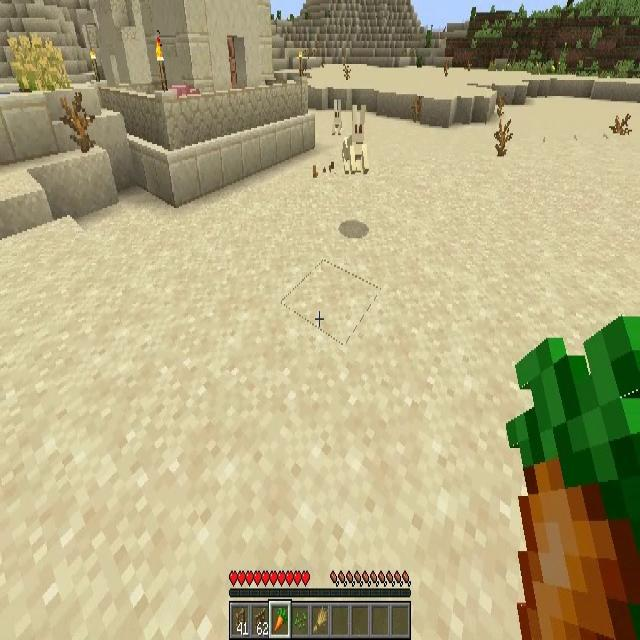rabbit: (346, 108, 369, 172), (331, 96, 345, 137)
